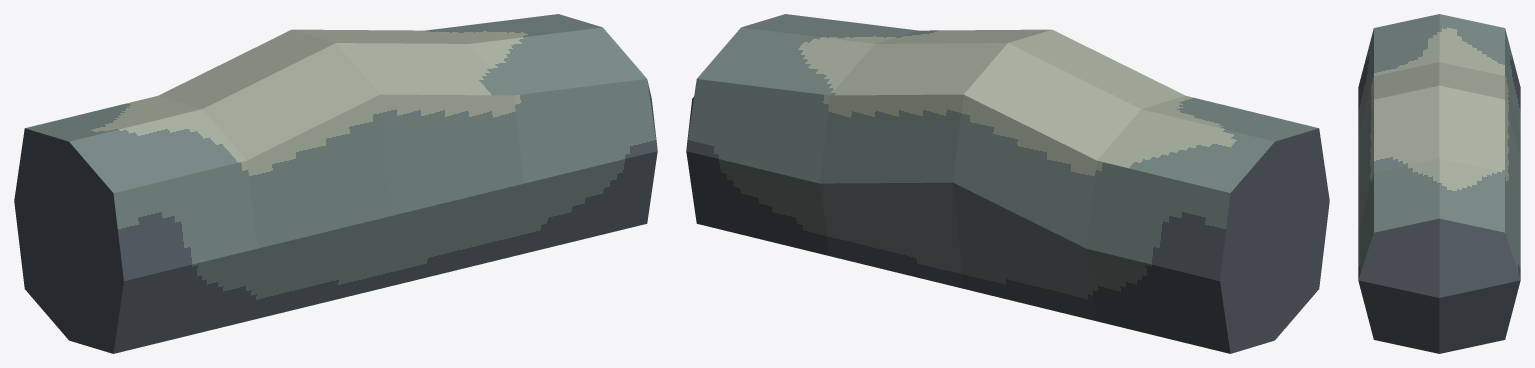
File: god_arm.glb
The picture shows the model from 3 angles, left to right: view 1: azimuth 30°, elevation 25°; view 2: azimuth 150°, elevation 25°; view 3: azimuth 270°, elevation 25°; orthographic projection. The views are drawn at different scales.
Visible parts, largest first — view 1: Cube.199; view 2: Cube.199; view 3: Cube.199.
Part boxes in pixels (x1=…): Cube.199: x1=14, y1=14, x2=657, y2=353; Cube.199: x1=686, y1=14, x2=1329, y2=353; Cube.199: x1=1358, y1=14, x2=1520, y2=353.
Bounding box in the file's own units: 4.21 × 1.61 × 1.37.
Materials: 1 (1 with a texture image).
